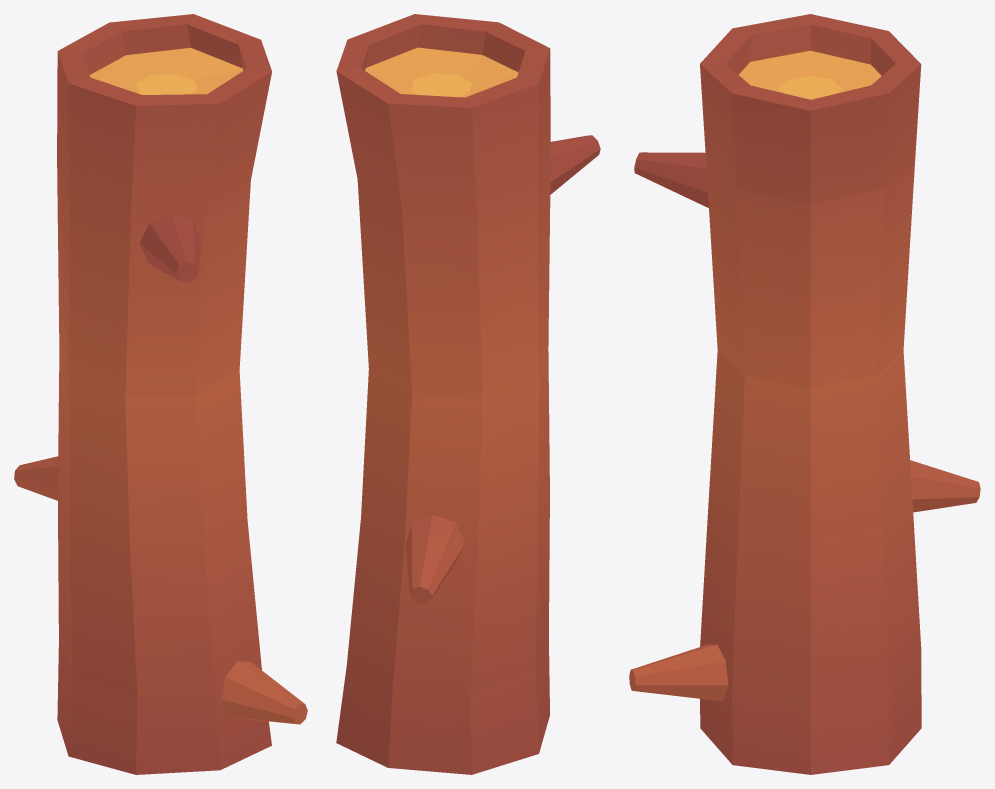
The model's file is Log2.glb.
3 views of the same model, side by side, from view 1: azimuth 30°, elevation 25°; view 2: azimuth 150°, elevation 25°; view 3: azimuth 270°, elevation 25° (orthographic).
Visible parts, largest first — view 1: Log2; view 2: Log2; view 3: Log2.
Part boxes in pixels (x1,y1,x2,y2): Log2: (14, 14, 307, 774); Log2: (336, 14, 600, 774); Log2: (629, 14, 980, 774).
Size of the model in its own units: 0.8217 by 2.75 by 1.3.
Materials: 1 (1 with a texture image).
